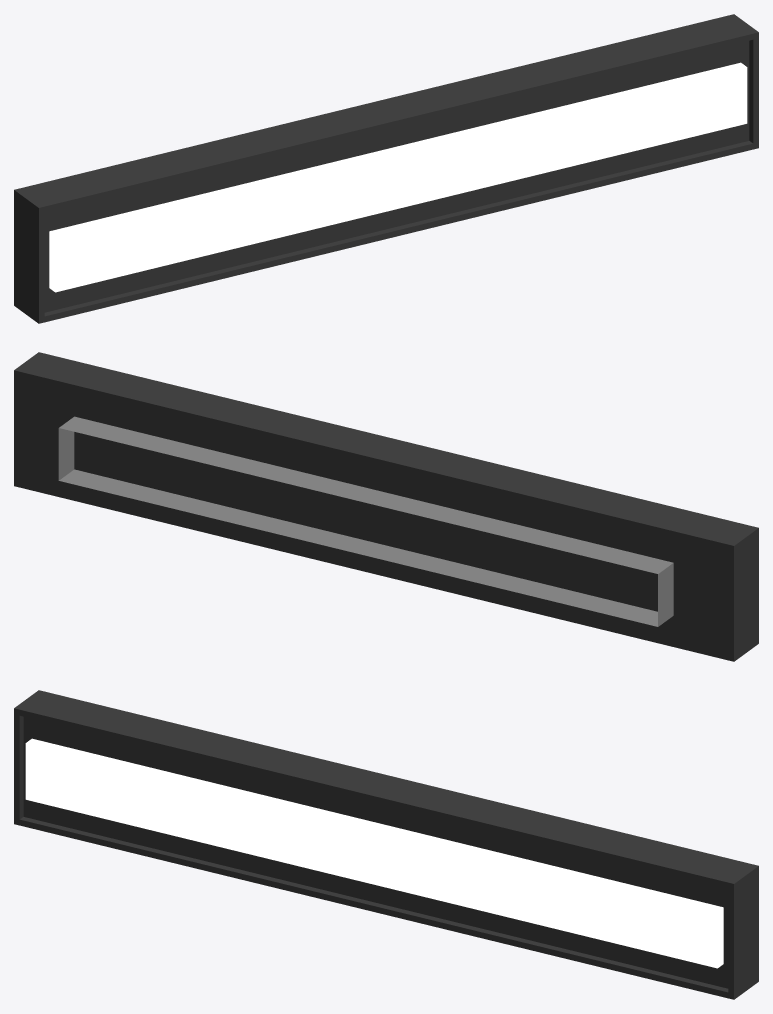
The model's file is Ceiling_Lamp_1.glb.
3 views of the same model, one above another, from view 1: azimuth 30°, elevation 25°; view 2: azimuth 150°, elevation 25°; view 3: azimuth 330°, elevation 25° (orthographic).
Parts seen in each view (by area): view 1: Ceiling Lamp 1; view 2: Ceiling Lamp 1; view 3: Ceiling Lamp 1.
Part boxes in pixels (<box>): Ceiling Lamp 1: <box>14,14,758,323</box>; Ceiling Lamp 1: <box>14,352,758,661</box>; Ceiling Lamp 1: <box>14,690,758,999</box>.
Size of the model in its own units: 1.08 by 0.1657 by 0.111.
2 materials, 1 textured.
